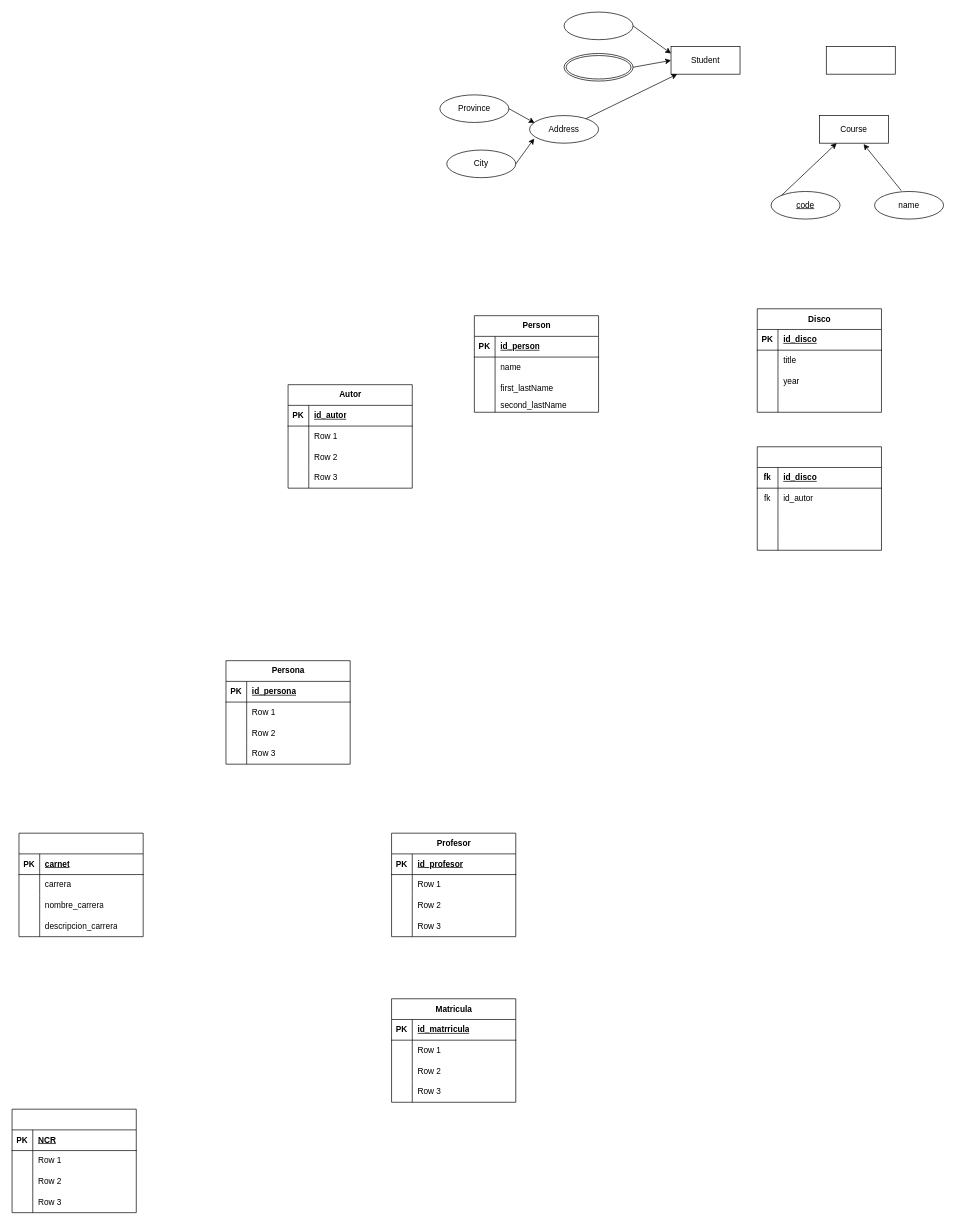
Image size: 956x1225. Some labels were removed from this diagram. The shapes that lost their labels are listed below. From the top down, each one's box as (x1, y1, x2, y2) in pixels, then its label:
(563, 11, 633, 40): id
(563, 53, 633, 81): Interests
(826, 46, 895, 74): Enrollment
(757, 446, 881, 550): Autoría
(18, 832, 143, 937): Estudiante
(11, 1108, 136, 1213): Curso
